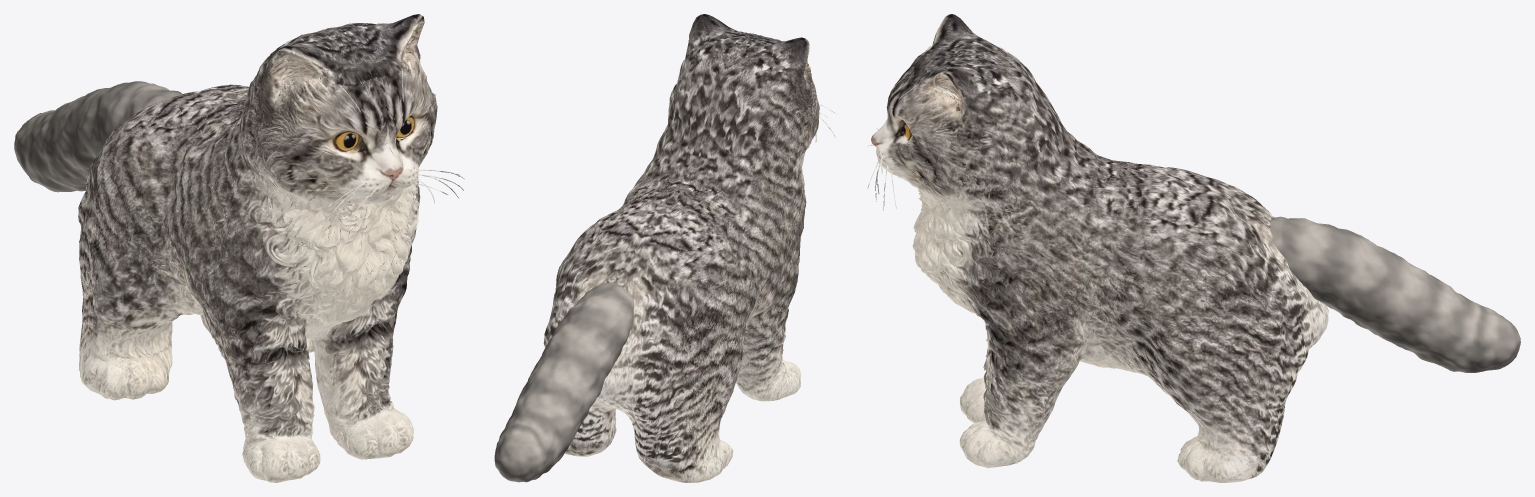
The model's file is meshy-selkirk.glb.
The picture shows the model from 3 angles, left to right: view 1: azimuth 30°, elevation 25°; view 2: azimuth 150°, elevation 25°; view 3: azimuth 270°, elevation 25°; orthographic projection. The views are drawn at different scales.
Visible parts, largest first — view 1: Mesh_0, tail.001; view 2: Mesh_0, tail.001; view 3: Mesh_0, tail.001.
Boxes of the visible parts, x1,y1,x2,y2 form: Mesh_0: (78, 14, 464, 482); tail.001: (14, 81, 193, 192); Mesh_0: (543, 14, 836, 482); tail.001: (494, 282, 638, 482); Mesh_0: (867, 14, 1328, 482); tail.001: (1258, 216, 1520, 372).
Bounding box in the file's own units: 0.974 × 1.79 × 2.69.
Materials: 2 (1 with a texture image).
